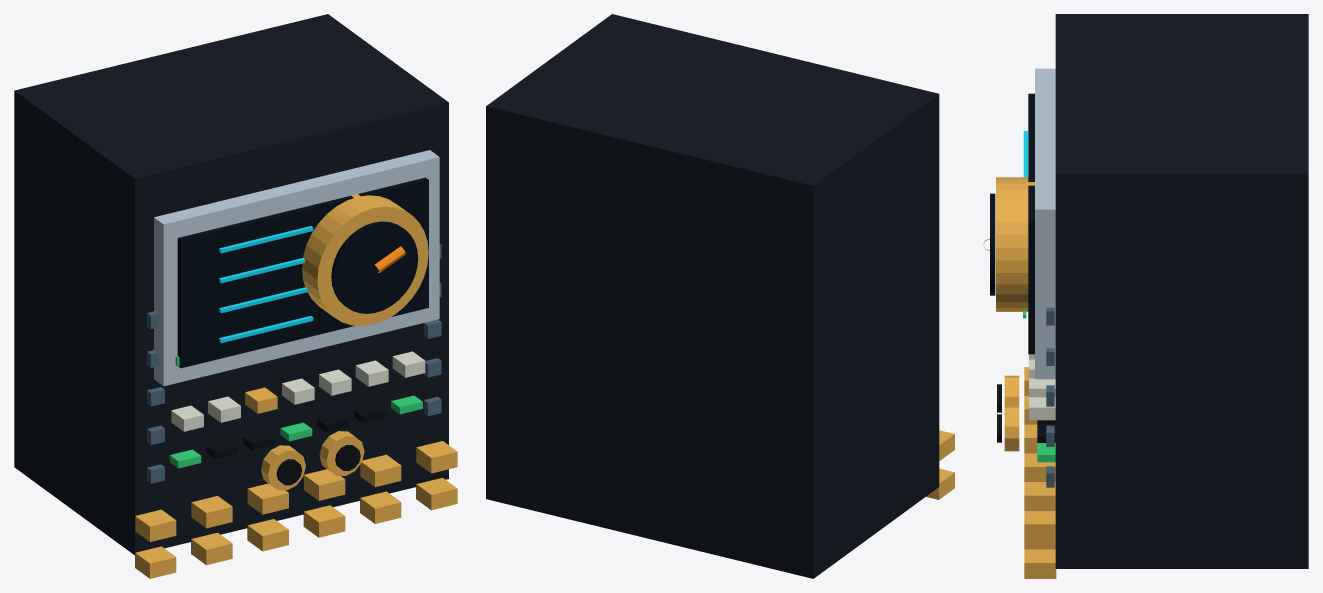
Rendered from 74_L92_CoreMassMetrology.fbx.
3 renders of one model, left to right at view 1: azimuth 30°, elevation 25°; view 2: azimuth 150°, elevation 25°; view 3: azimuth 270°, elevation 25°, orthographic. The views are drawn at different scales.
Parts seen in each view (by area): view 1: L92_CoreMassMetrology, L92_CoreMassMetrology_Part_0011, L92_CoreMassMetrology_Part_0013; view 2: L92_CoreMassMetrology; view 3: L92_CoreMassMetrology, L92_CoreMassMetrology_Part_0013, L92_CoreMassMetrology_Part_0011.
Boxes of the visible parts, x1,y1,x2,y2 form: L92_CoreMassMetrology: (14, 14, 457, 578); L92_CoreMassMetrology_Part_0011: (261, 445, 305, 490); L92_CoreMassMetrology_Part_0013: (319, 431, 364, 475); L92_CoreMassMetrology: (486, 14, 954, 578); L92_CoreMassMetrology: (990, 14, 1308, 578); L92_CoreMassMetrology_Part_0013: (1004, 405, 1019, 451); L92_CoreMassMetrology_Part_0011: (1004, 375, 1019, 405).
Size of the model in its own units: 107 by 127 by 91.8.
